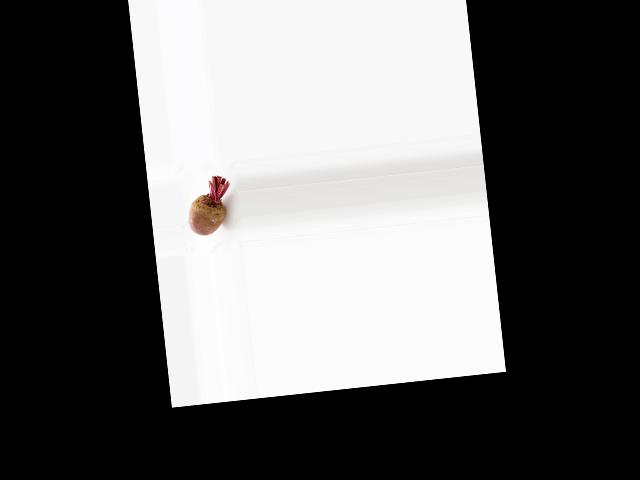beet: (184, 174, 235, 237)
